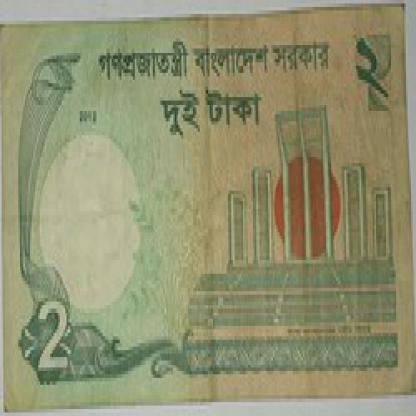two taka: (156, 90, 276, 156), (35, 288, 88, 402), (351, 35, 391, 97)
